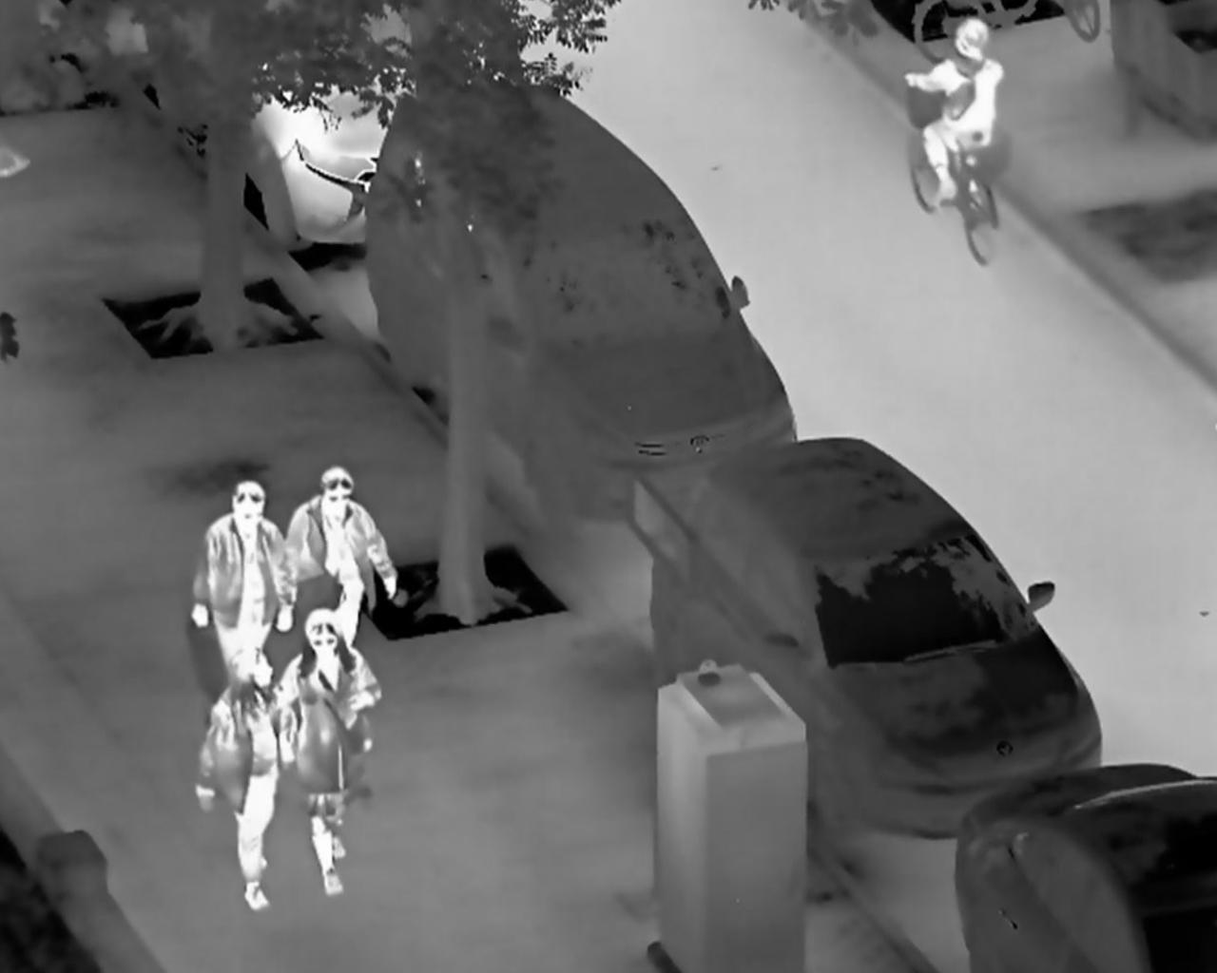person: (291, 605, 381, 895), (192, 646, 289, 912), (189, 481, 295, 689), (286, 464, 397, 662), (905, 14, 1009, 208)
